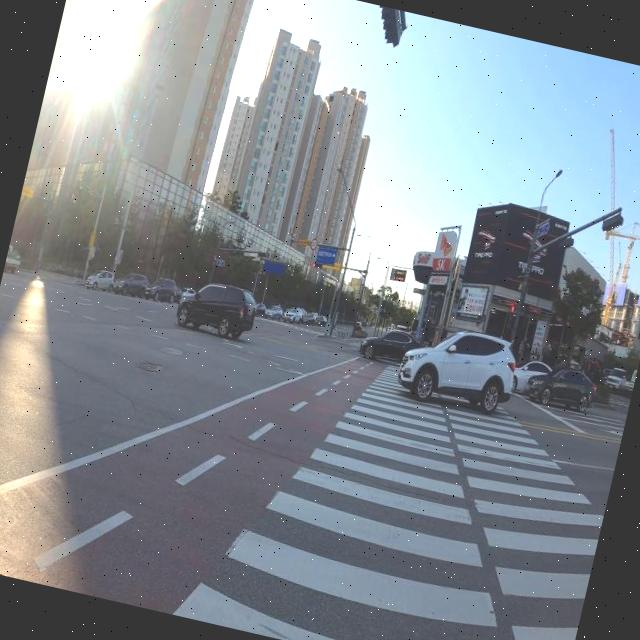crosswalk: (172, 358, 604, 640), (249, 315, 330, 335)
